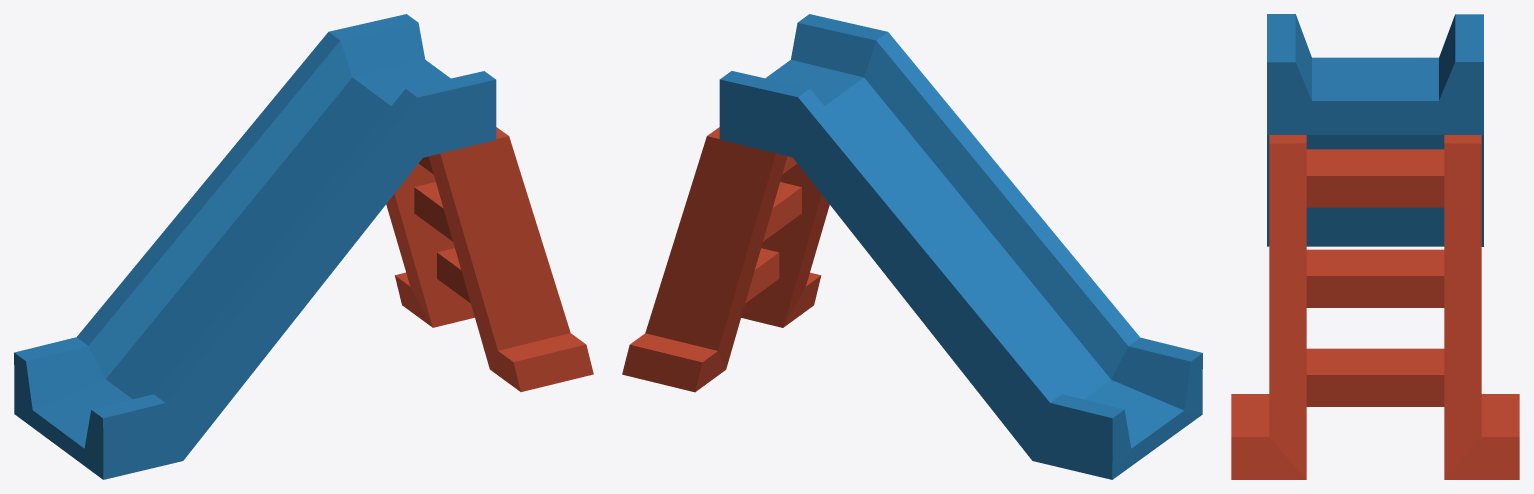
The model's file is hill01_s01.FBX.
3 views of the same model, side by side, from view 1: azimuth 30°, elevation 25°; view 2: azimuth 150°, elevation 25°; view 3: azimuth 270°, elevation 25° (orthographic). The views are drawn at different scales.
Parts seen in each view (by area): view 1: hill01_s01; view 2: hill01_s01; view 3: hill01_s01.
Part boxes in pixels (bbox=[...]): hill01_s01: bbox=[14, 14, 593, 479]; hill01_s01: bbox=[622, 14, 1202, 479]; hill01_s01: bbox=[1231, 14, 1519, 479].
Size of the model in its own units: 242 by 105 by 149.
1 material, 1 textured.
